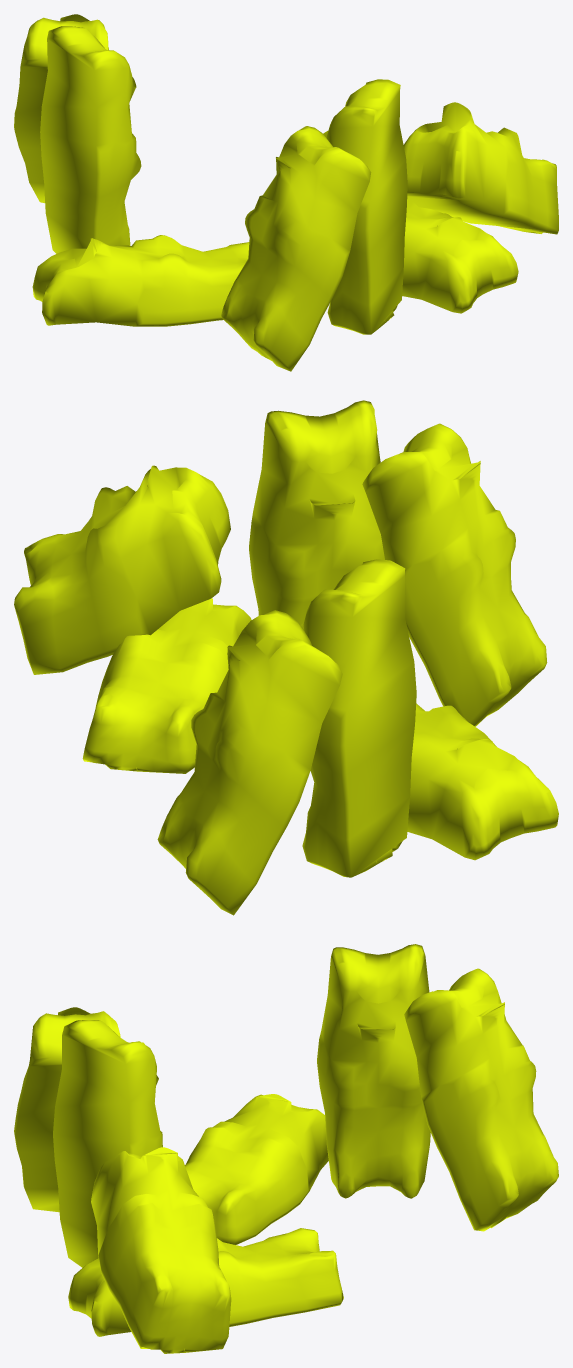
The model's file is jelly.FBX.
3 renders of one model, top to bottom at view 1: azimuth 30°, elevation 25°; view 2: azimuth 150°, elevation 25°; view 3: azimuth 270°, elevation 25°, orthographic. The views are drawn at different scales.
Visible parts, largest first — view 1: Cube010, Cube, Cube002, Cube009, Cube001, Cube007, Cube003; view 2: Cube010, Cube003, Cube001, Cube, Cube009, Cube007, Cube002; view 3: Cube003, Cube, Cube001, Cube009, Cube002, Cube007, Cube010.
Part boxes in pixels (x1,y1,x2,y2): Cube010: (221,126,371,371); Cube: (40,26,141,253); Cube002: (32,235,249,326); Cube009: (323,79,407,334); Cube001: (403,102,558,234); Cube007: (402,197,518,313); Cube003: (14,14,108,203); Cube010: (362,423,547,726); Cube003: (157,610,342,915); Cube001: (14,465,230,674); Cube: (300,559,416,877); Cube009: (249,400,384,624); Cube007: (82,598,251,773); Cube002: (407,703,558,860); Cube003: (404,968,558,1231); Cube: (317,944,430,1198); Cube001: (91,1147,231,1353); Cube009: (53,1020,162,1267); Cube002: (185,1094,328,1244); Cube007: (68,1228,343,1336); Cube010: (14,1007,120,1212).
Size of the model in its own units: 0.3897 by 0.1826 by 0.3707.
